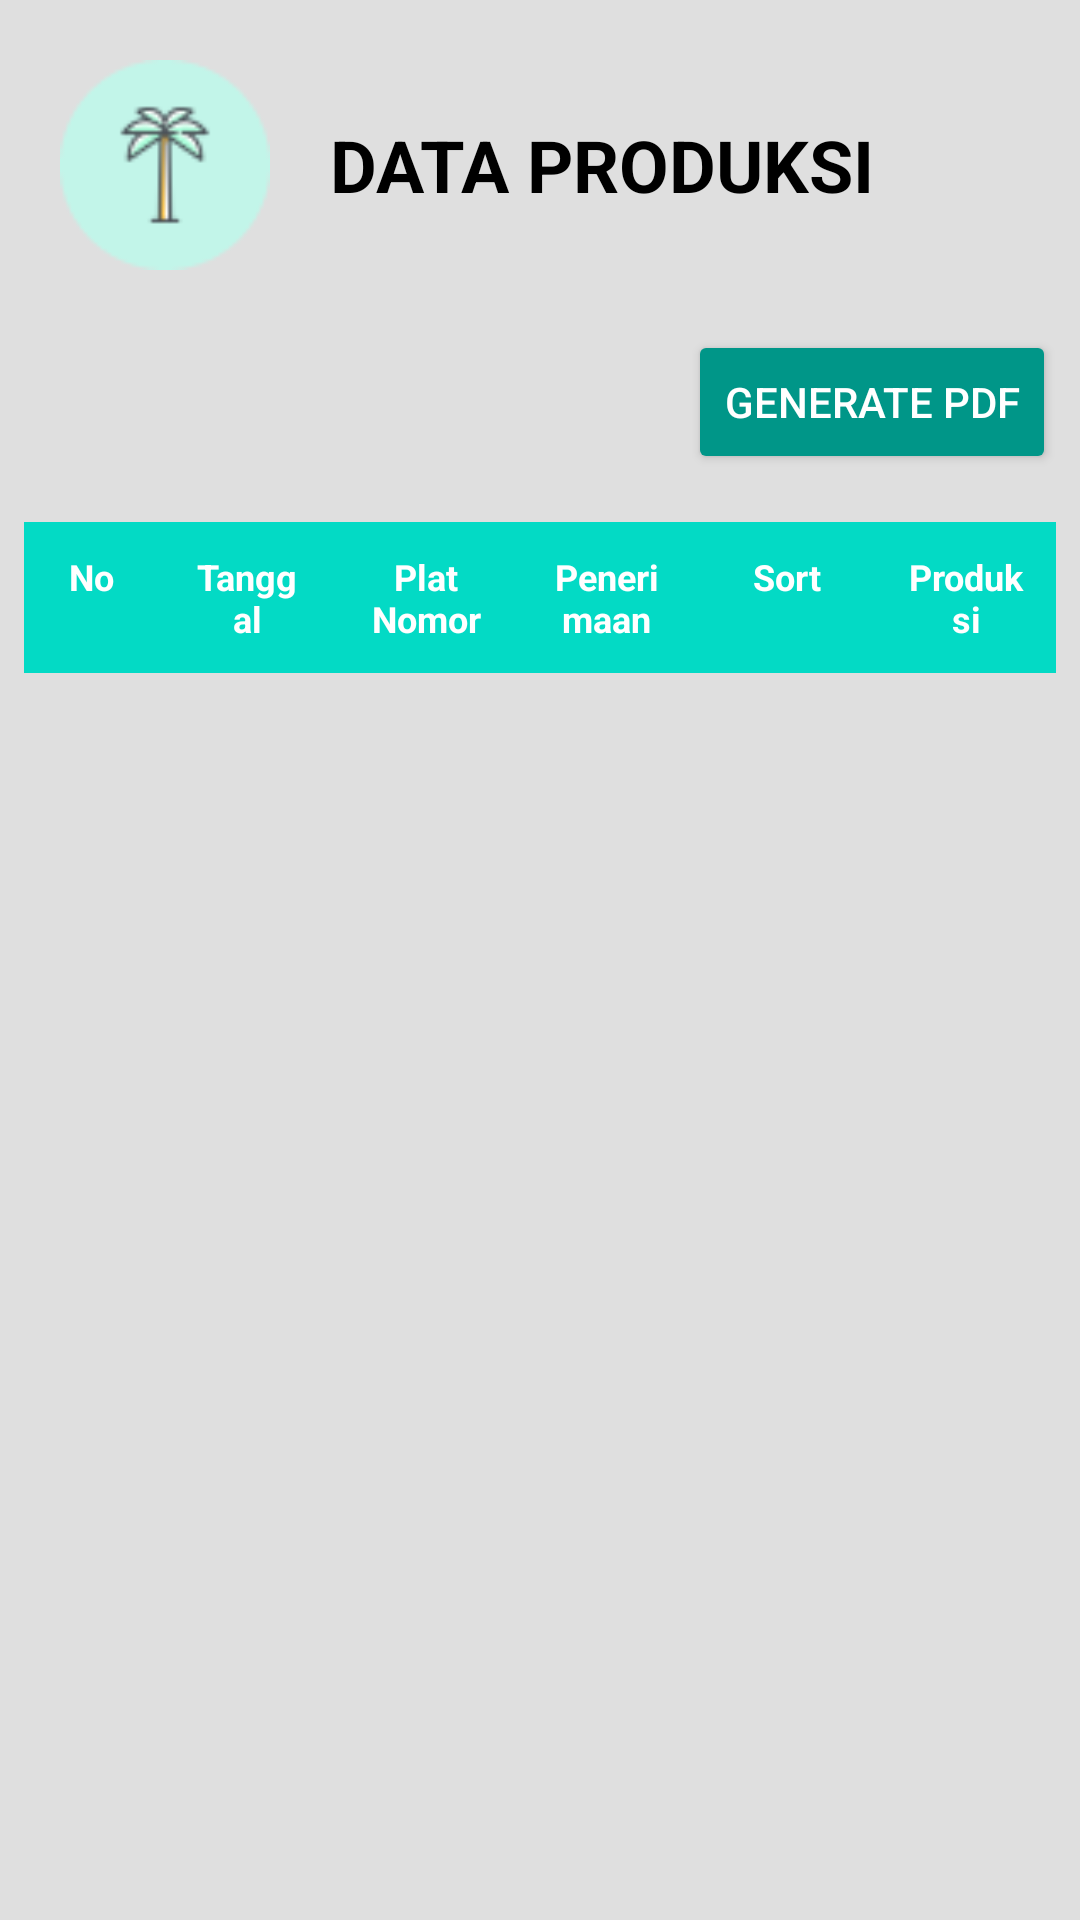

Named icons in this screenshot (1080×1920) and their centers, (x=x, y=y):
pohon: (x=165, y=165)
